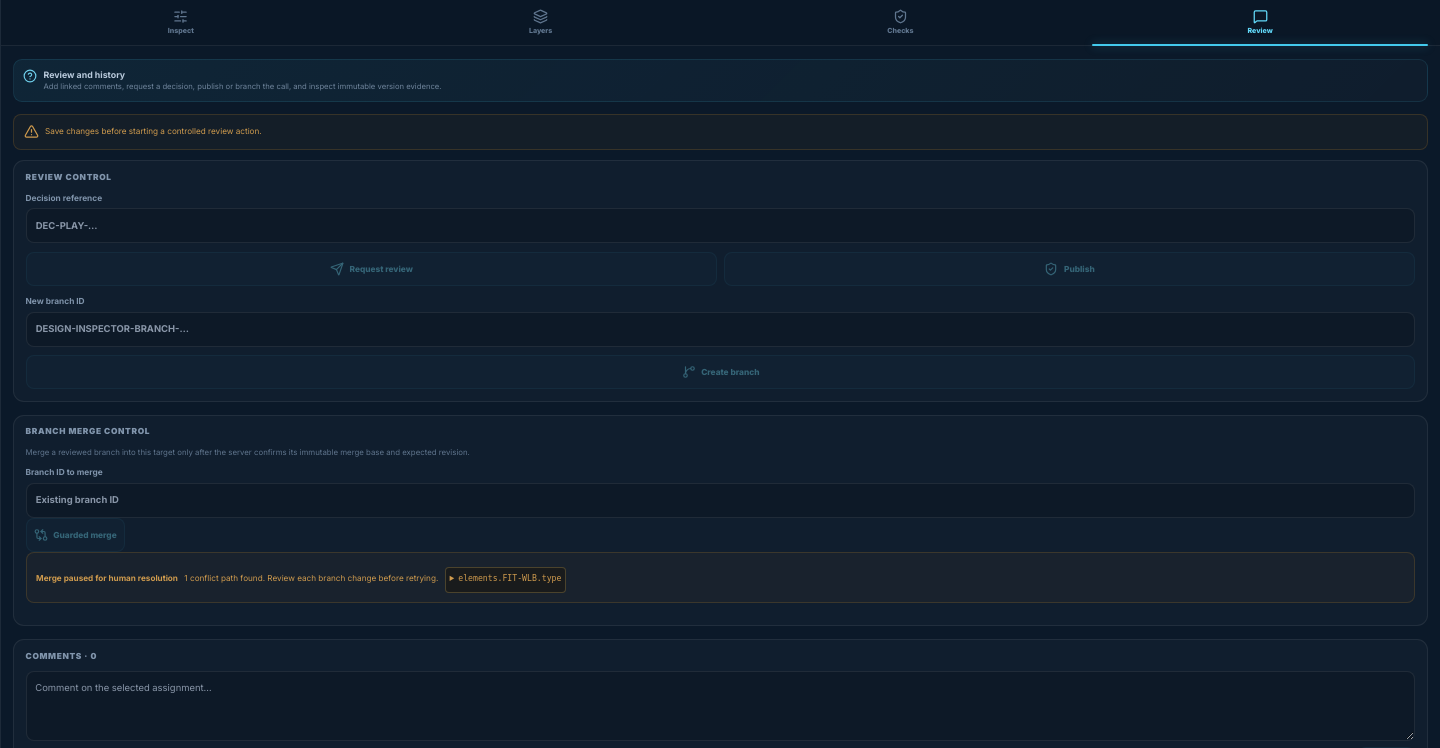
DesignerInspector assignment graph controls › expands exact base, target, and branch values for a merge conflict
Check: the text "Merge paused for human resolution" is shown, box [36, 572, 178, 584]
Click the heading "elements.FIT-WLB.type": (506, 578) [450, 572, 561, 584]
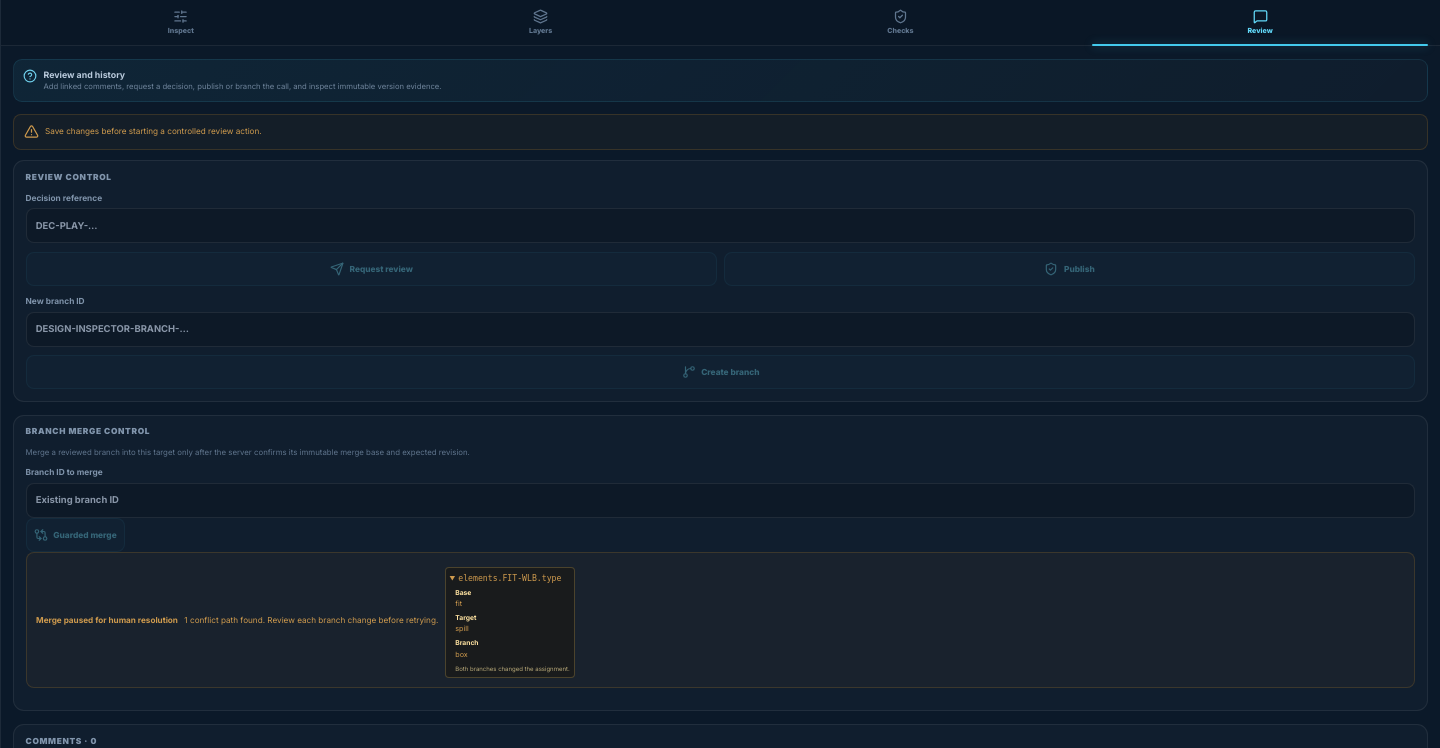
Check: the text "Base" is shown, box [455, 588, 471, 597]
Check: the text "spill" is shown, box [455, 624, 469, 633]
Check: the text "box" is shown, box [455, 650, 468, 659]
